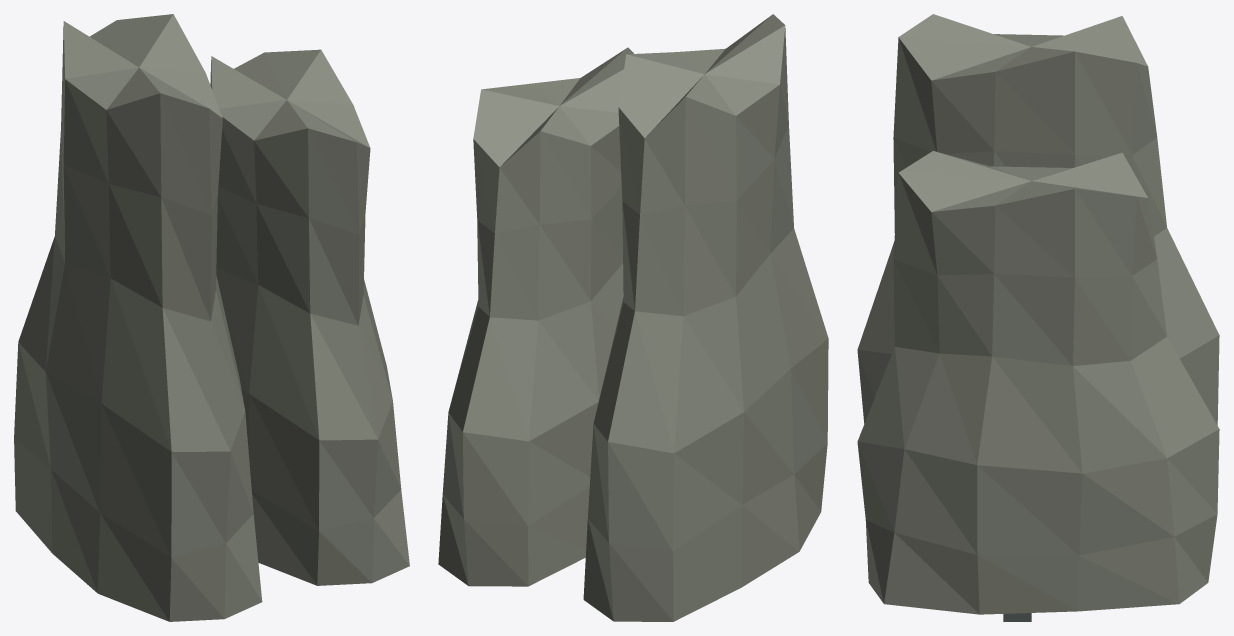
File: visual-far.glb
3 views of the same model, side by side, from view 1: azimuth 30°, elevation 25°; view 2: azimuth 150°, elevation 25°; view 3: azimuth 270°, elevation 25° (orthographic). The views are drawn at different scales.
Visible parts, largest first — view 1: 破岩形状与干湿色尺寸族; view 2: 破岩形状与干湿色尺寸族; view 3: 破岩形状与干湿色尺寸族.
Boxes of the visible parts, x1,y1,x2,y2 form: 破岩形状与干湿色尺寸族: [14, 14, 409, 621]; 破岩形状与干湿色尺寸族: [438, 14, 828, 621]; 破岩形状与干湿色尺寸族: [857, 14, 1219, 621].
Size of the model in its own units: 2.24 by 4.01 by 2.56.
Materials: 2 (2 with a texture image).
